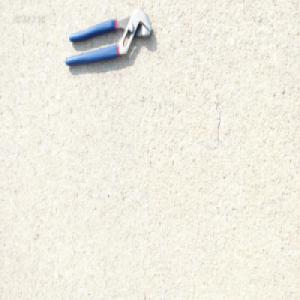Pliers: (62, 6, 152, 67)
